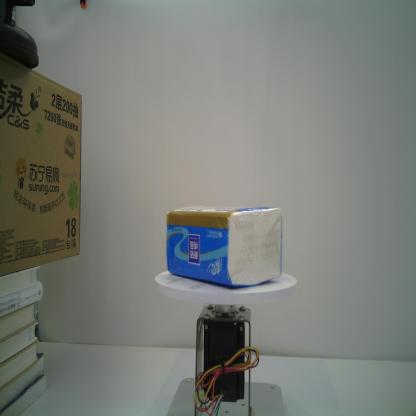Tissue: (166, 204, 282, 288)
